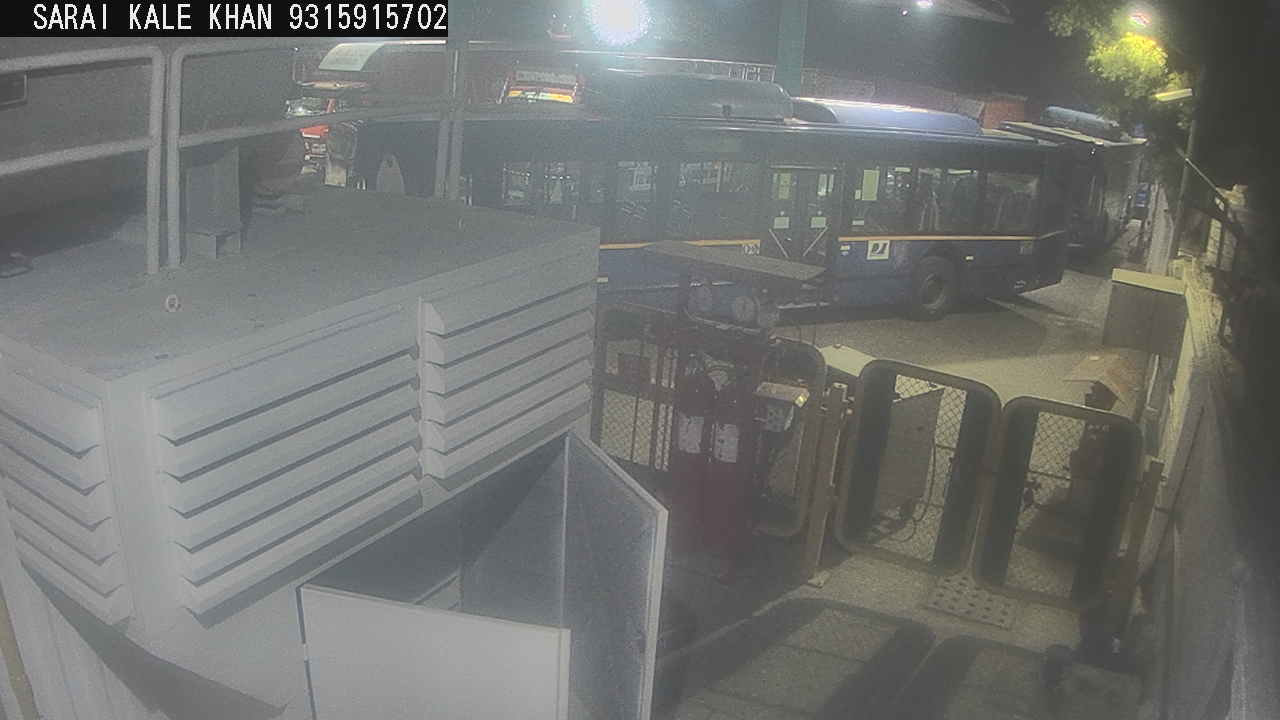HMV: (297, 56, 1103, 352), (987, 96, 1153, 275), (279, 30, 459, 183), (493, 31, 792, 113), (811, 57, 965, 124), (1110, 89, 1182, 228), (950, 80, 1036, 139)
